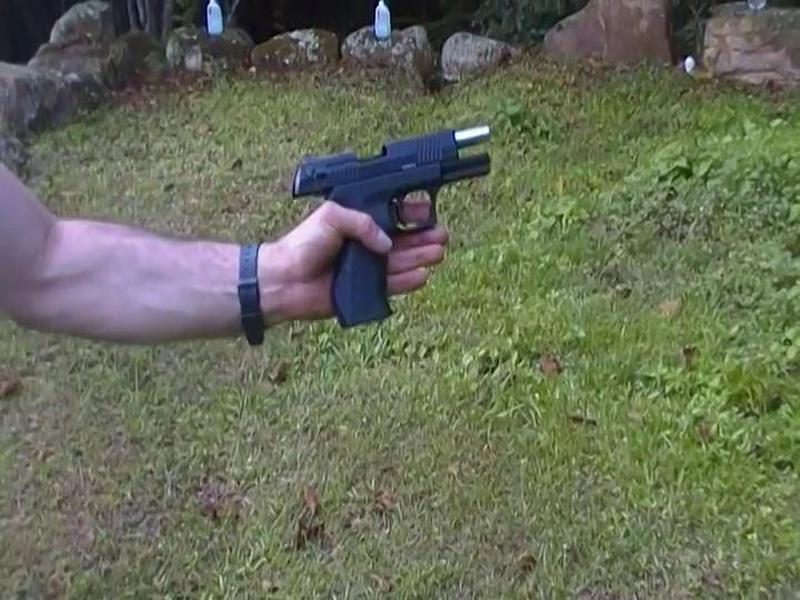Pistola: (270, 104, 525, 350)
